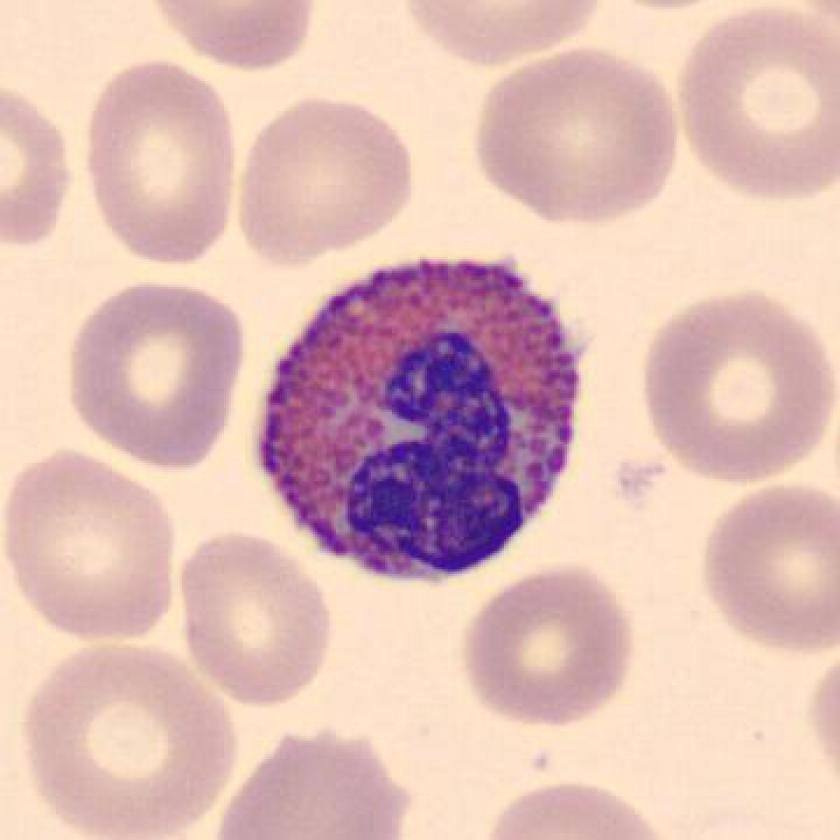eosinophil: (253, 244, 591, 598)
